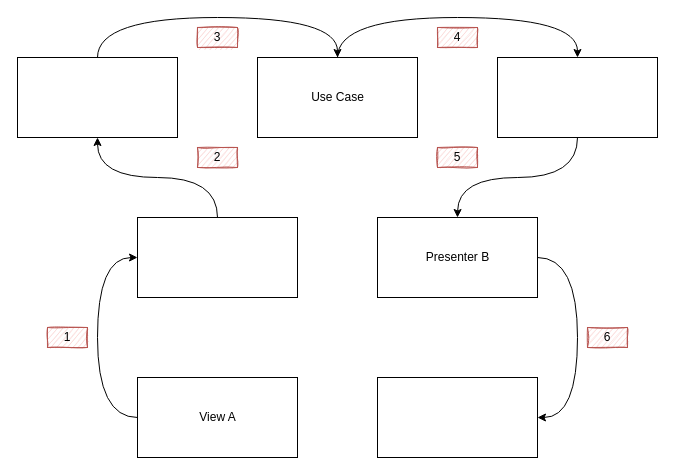
Some shapes in this 675 by 475 pixel diagram are drawn without their labels. The shapes that lost their labels are listed below. From the top down, each one's centre as x and y in pixels, then its label:
point 97,97: «interface» Input Port
point 577,97: «interface» Output Port
point 217,257: Presenter A
point 457,417: View B
